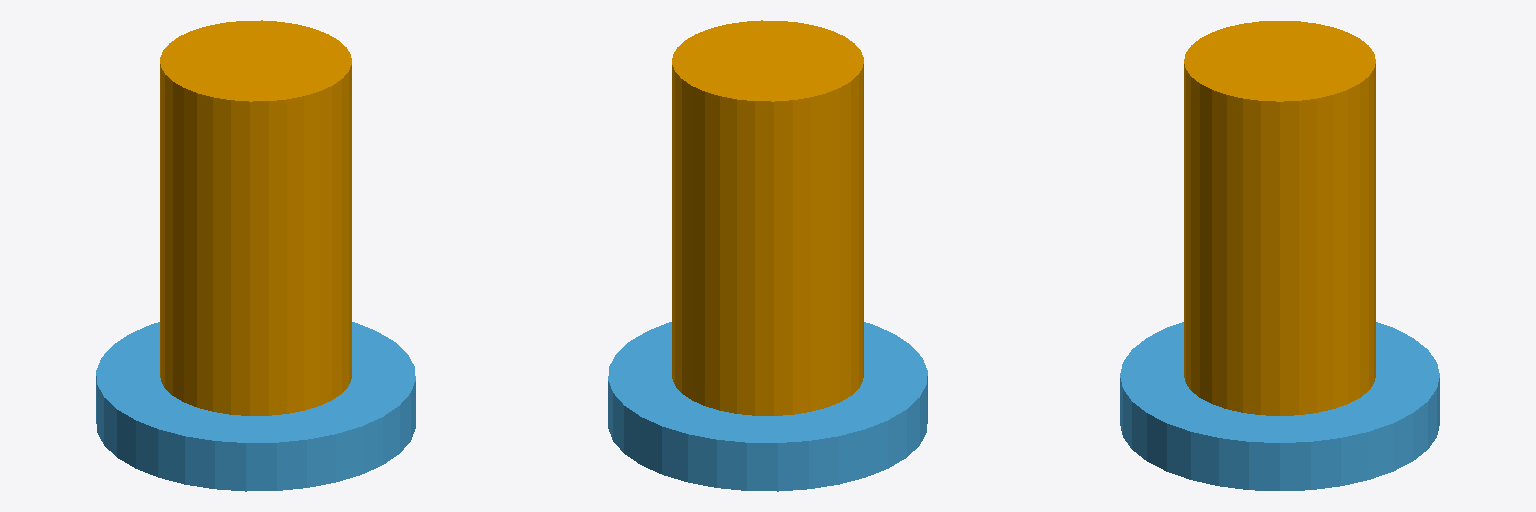
robot.urdf — peg.urdf:
<?xml version="1.0" ?>
<robot name="peg.urdf">
	<link name="base">
		<inertial>
			<origin rpy="0 0 0" xyz="0 0 0"/>
			<mass value="1"/>
			<inertia ixx="3e-3" ixy="0" ixz="0" iyy="3e-3" iyz="0" izz="3e-3"/>
		</inertial>
		<visual>
			<origin rpy="0 0 0" xyz="0 0 0"/>
			<geometry>
				<cylinder radius="0.018" length="0.07"/>
			</geometry>
		</visual>
		<collision>
			<origin rpy="0 0 0" xyz="0 0 0"/>
			<geometry>
				<cylinder radius="0.018" length="0.07"/>
			</geometry>
		</collision>
	</link>
	<joint name="joint" type="fixed">
		<origin rpy="0 0 0" xyz="0 0 -0.035"/>
		<parent link="base" />
		<child link="link1" />
		<axis xyz="0 0 0" />
	</joint>
	<link name="link1">
		<inertial>
			<origin rpy="0 0 0" xyz="0 0 0"/>
				<mass value="0.2"/>
				<inertia ixx="3e-3" ixy="0" ixz="0" iyy="3e-3" iyz="0" izz="3e-3"/>
		</inertial>
		<visual>
			<origin rpy="0 0 0" xyz="0 0 0"/>
			<geometry>
				<cylinder radius="0.03" length="0.01"/>
			</geometry>
		</visual>
		<collision>
			<origin rpy="0 0 0" xyz="0 0 0"/>
			<geometry>
				<cylinder radius="0.03" length="0.01"/>
			</geometry>
		</collision>
	</link>
</robot>

--- Render facts (derived) ---
The picture shows the robot from 3 angles, left to right: view 1: azimuth 30°, elevation 25°; view 2: azimuth 150°, elevation 25°; view 3: azimuth 270°, elevation 25°; orthographic projection.
Robot: peg.urdf — 2 links, 1 joints (1 fixed); root link base; default pose: all joints at 0.
Links seen in each view (by area): view 1: base, link1; view 2: base, link1; view 3: base, link1.
Link boxes in pixels (x1,y1,x2,y2): base: (160, 20, 351, 415); link1: (96, 322, 415, 491); base: (672, 20, 863, 415); link1: (608, 322, 927, 491); base: (1184, 21, 1375, 415); link1: (1120, 322, 1439, 490).
Bounding box of the posed robot: 0.06 × 0.06 × 0.075 m (x, y, z).
Geometry: primitives only (box / cylinder / sphere), no mesh files.